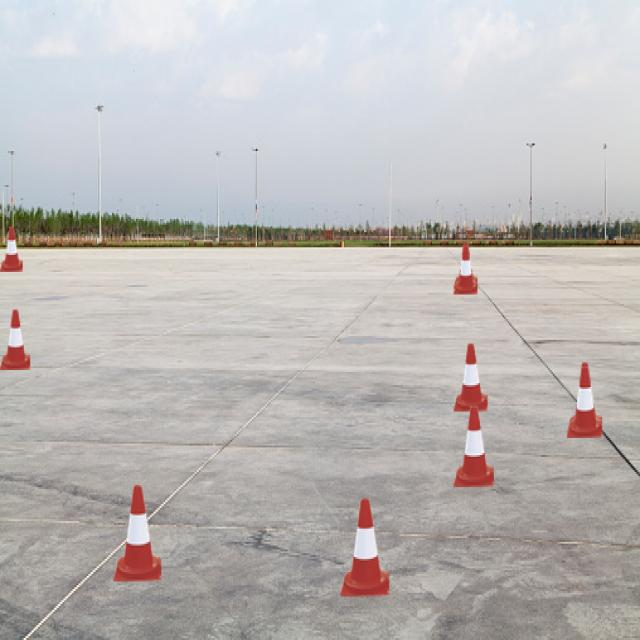orange_cone: (340, 498, 389, 596), (114, 485, 162, 582), (453, 406, 494, 487), (567, 366, 602, 438), (567, 363, 602, 434), (453, 344, 488, 412), (0, 310, 30, 370), (453, 246, 478, 294), (453, 242, 478, 289), (0, 226, 23, 272)
